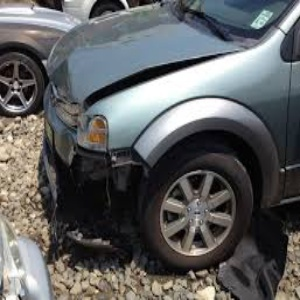bonnet: (44, 38, 141, 103)
bumper: (40, 150, 136, 222)
